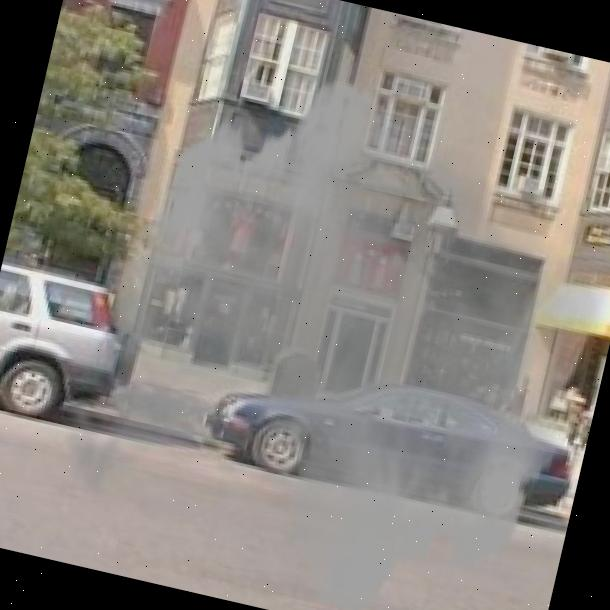smoke: (20, 15, 610, 610)
